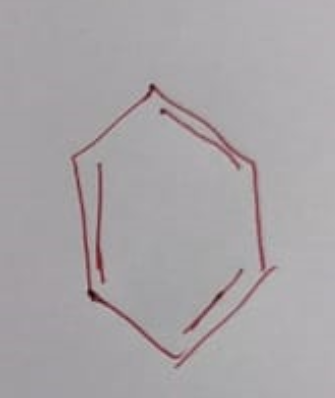shape_mask: (53, 67, 293, 383)
